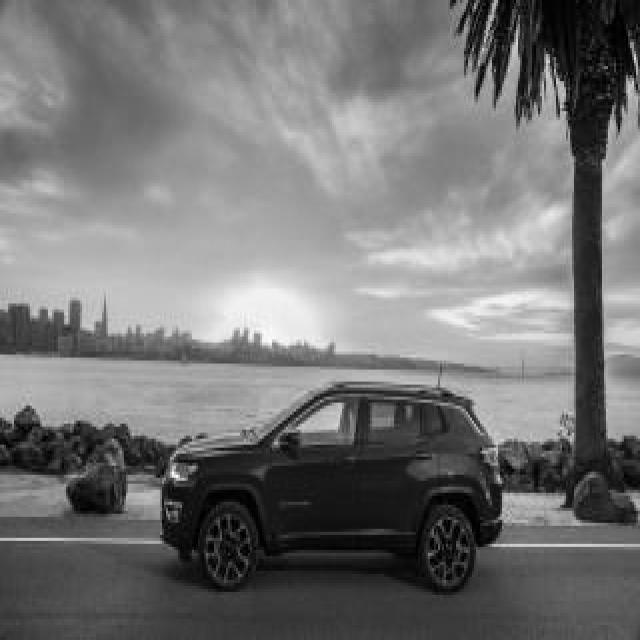Car: (161, 385, 503, 591)
